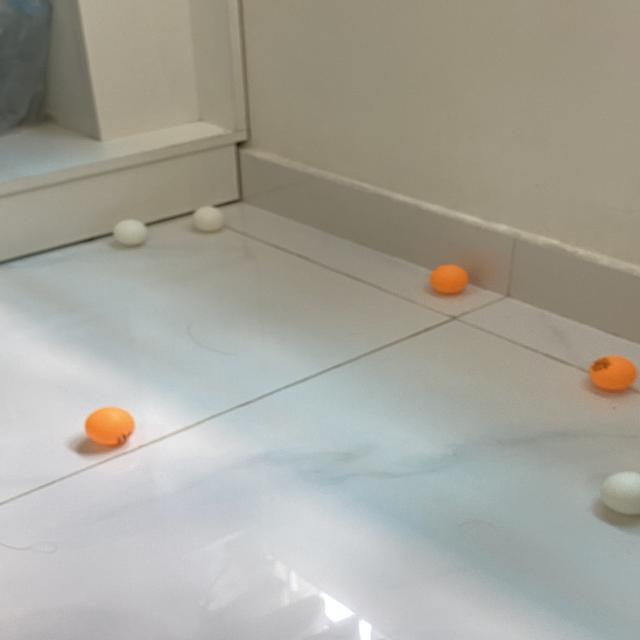ping-pong-ball: (83, 406, 137, 446), (589, 355, 637, 391), (603, 471, 640, 517), (431, 262, 470, 292), (112, 218, 150, 248), (193, 204, 227, 233)
